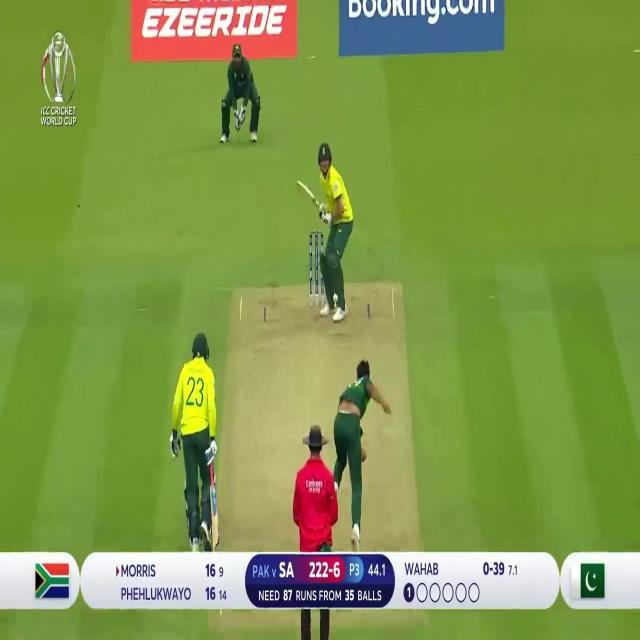ball: (330, 286, 340, 306)
